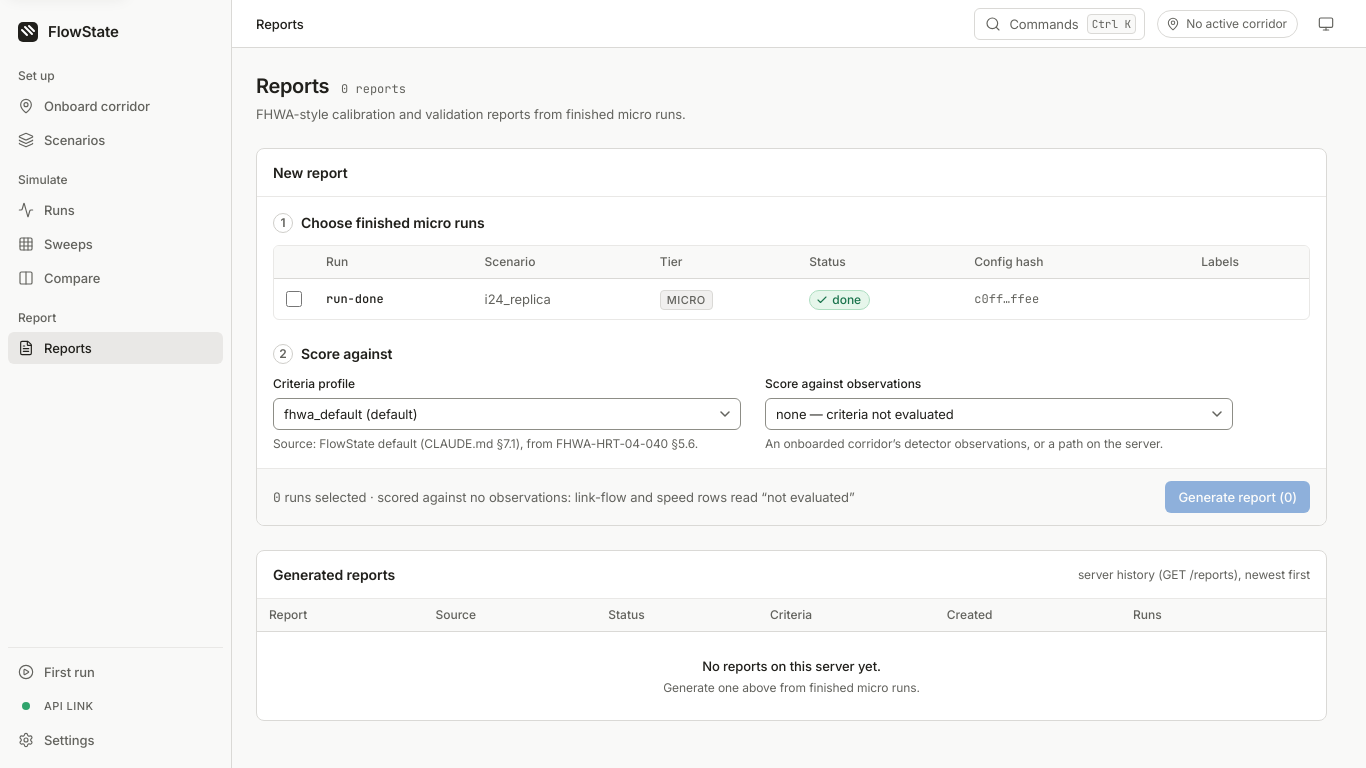
Test case: accessibility audit: live API states › Reports: the run picker with a run selected
This screenshot has width=1366, height=768.
What coordinates should you click on to do the following:
click the checkbox named "select run-done"
I would click on:
 (294, 299)
Its box is [286,291,302,307].
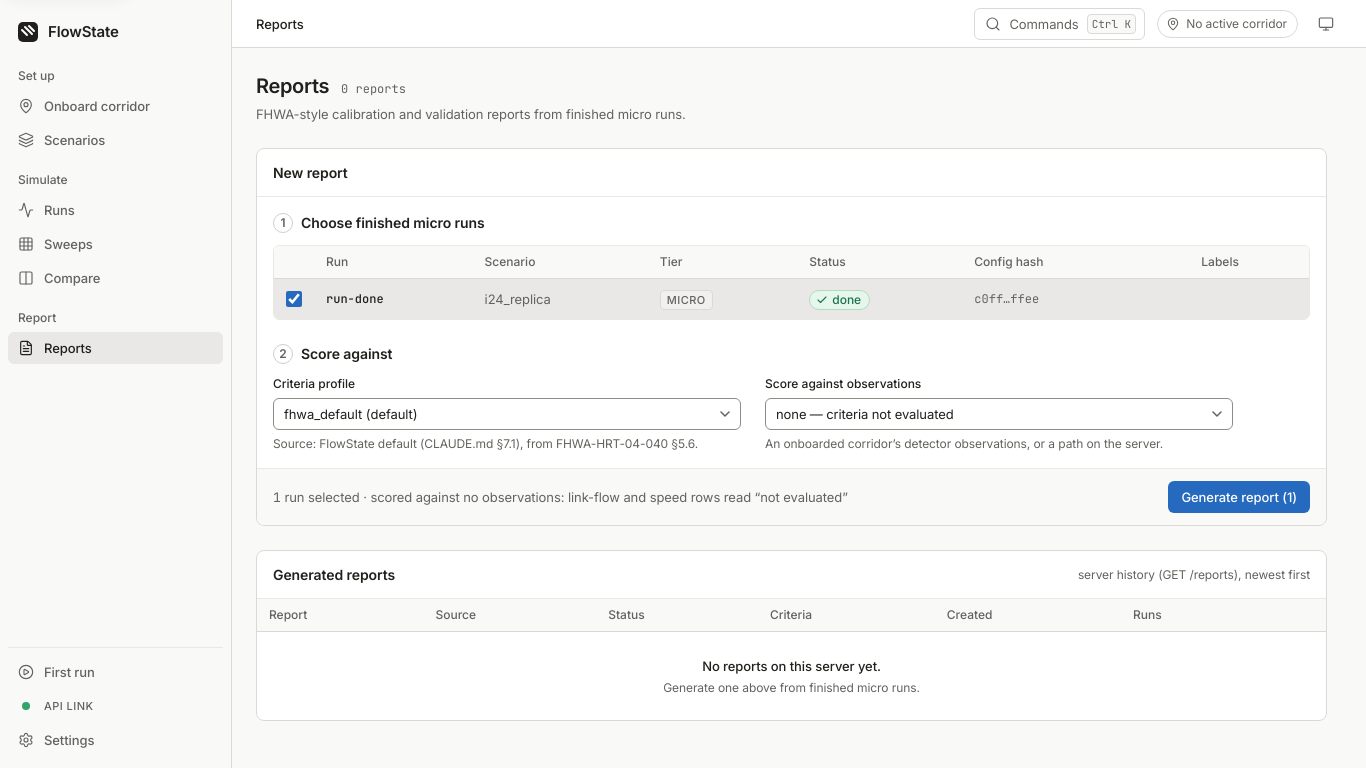
Now the button "Generate report (1)" is shown, box [1168,481,1310,513]
